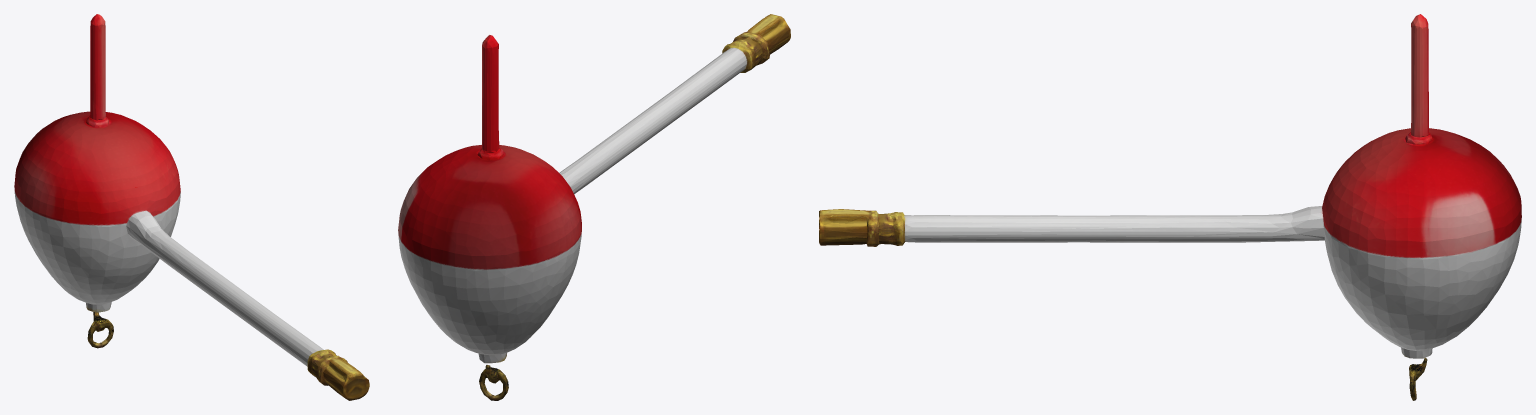
File: fishing_bobber.glb
3 renders of one model, left to right at view 1: azimuth 30°, elevation 25°; view 2: azimuth 150°, elevation 25°; view 3: azimuth 270°, elevation 25°, orthographic. The views are drawn at different scales.
Visible parts, largest first — view 1: geometry_0; view 2: geometry_0; view 3: geometry_0.
Boxes of the visible parts, x1,y1,x2,y2 form: geometry_0: [14, 14, 369, 400]; geometry_0: [398, 14, 790, 400]; geometry_0: [819, 14, 1521, 400].
Size of the model in its own units: 0.2712 by 0.6051 by 1.
Materials: 1 (1 with a texture image).
